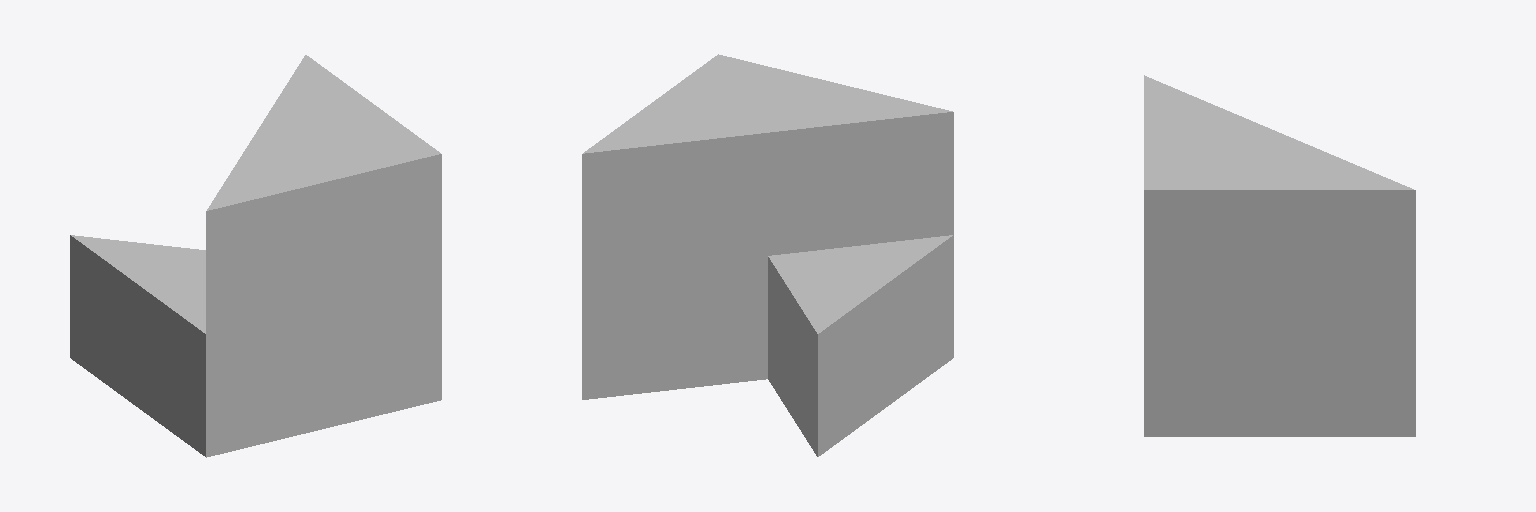
The model's file is diagsteps_8l.obj.
The picture shows the model from 3 angles: view 1: azimuth 30°, elevation 25°; view 2: azimuth 150°, elevation 25°; view 3: azimuth 270°, elevation 25°; orthographic projection.
Parts seen in each view (by area): view 1: Cube; view 2: Cube; view 3: Cube.
Boxes of the visible parts, <box> form: Cube: <box>70,55,441,457</box>; Cube: <box>582,54,953,456</box>; Cube: <box>1144,75,1415,436</box>.
Bounding box in the file's own units: 1 × 1 × 1.